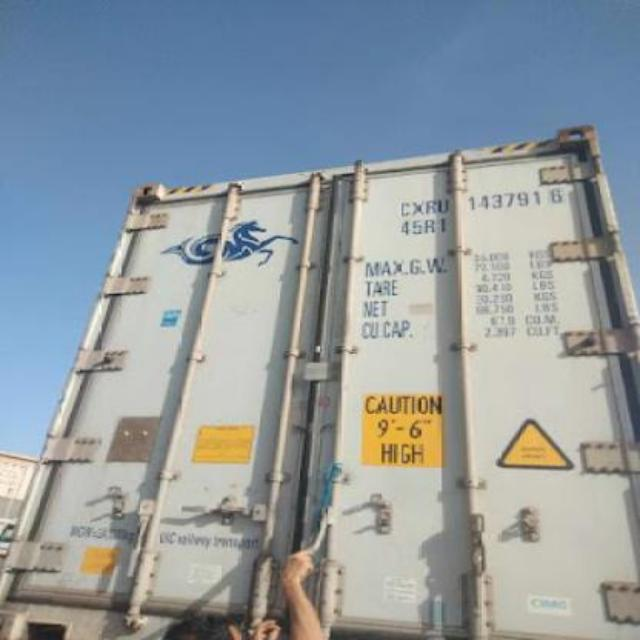1: (464, 196, 476, 212), (532, 190, 542, 206)
3: (491, 190, 504, 212)
4: (478, 193, 492, 211)
6: (548, 188, 566, 204)
7: (502, 188, 518, 210)
9: (516, 191, 532, 207)
C: (398, 201, 412, 217)
R: (424, 200, 438, 216)
U: (436, 198, 452, 214)
X: (410, 199, 426, 217)
